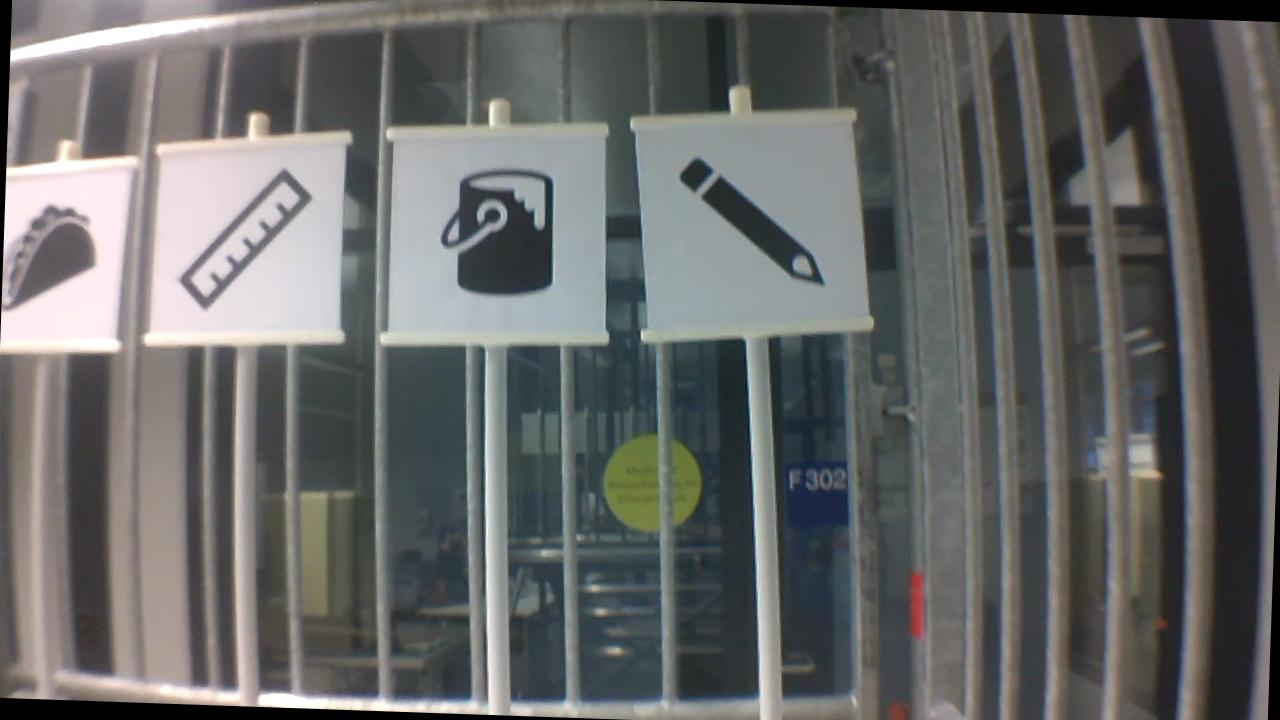bucket: (431, 160, 563, 302)
pencil: (664, 150, 834, 294)
ruler: (171, 158, 322, 319)
taco: (4, 197, 104, 317)
